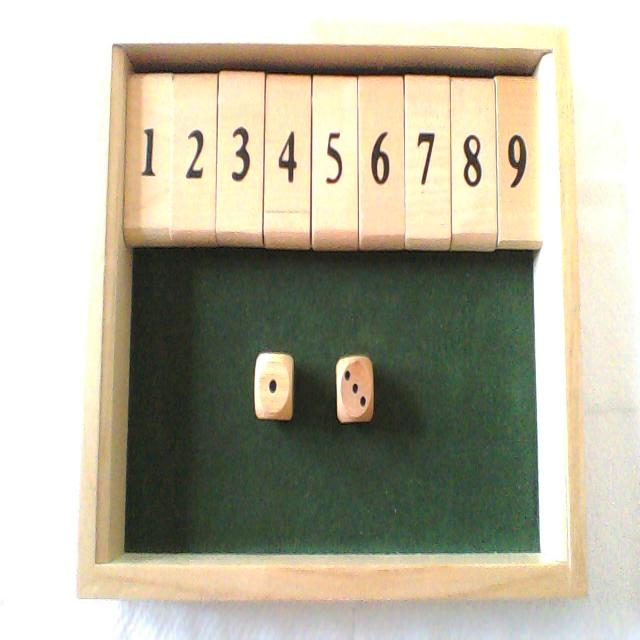1: (248, 345, 297, 429)
3: (332, 346, 382, 429)
C1: (123, 27, 171, 248)
C2: (172, 23, 217, 247)
C3: (218, 23, 264, 247)
C4: (266, 23, 311, 248)
C5: (313, 23, 357, 249)
C6: (361, 24, 403, 250)
C7: (407, 24, 449, 250)
C8: (454, 22, 494, 250)
C9: (498, 23, 541, 252)
